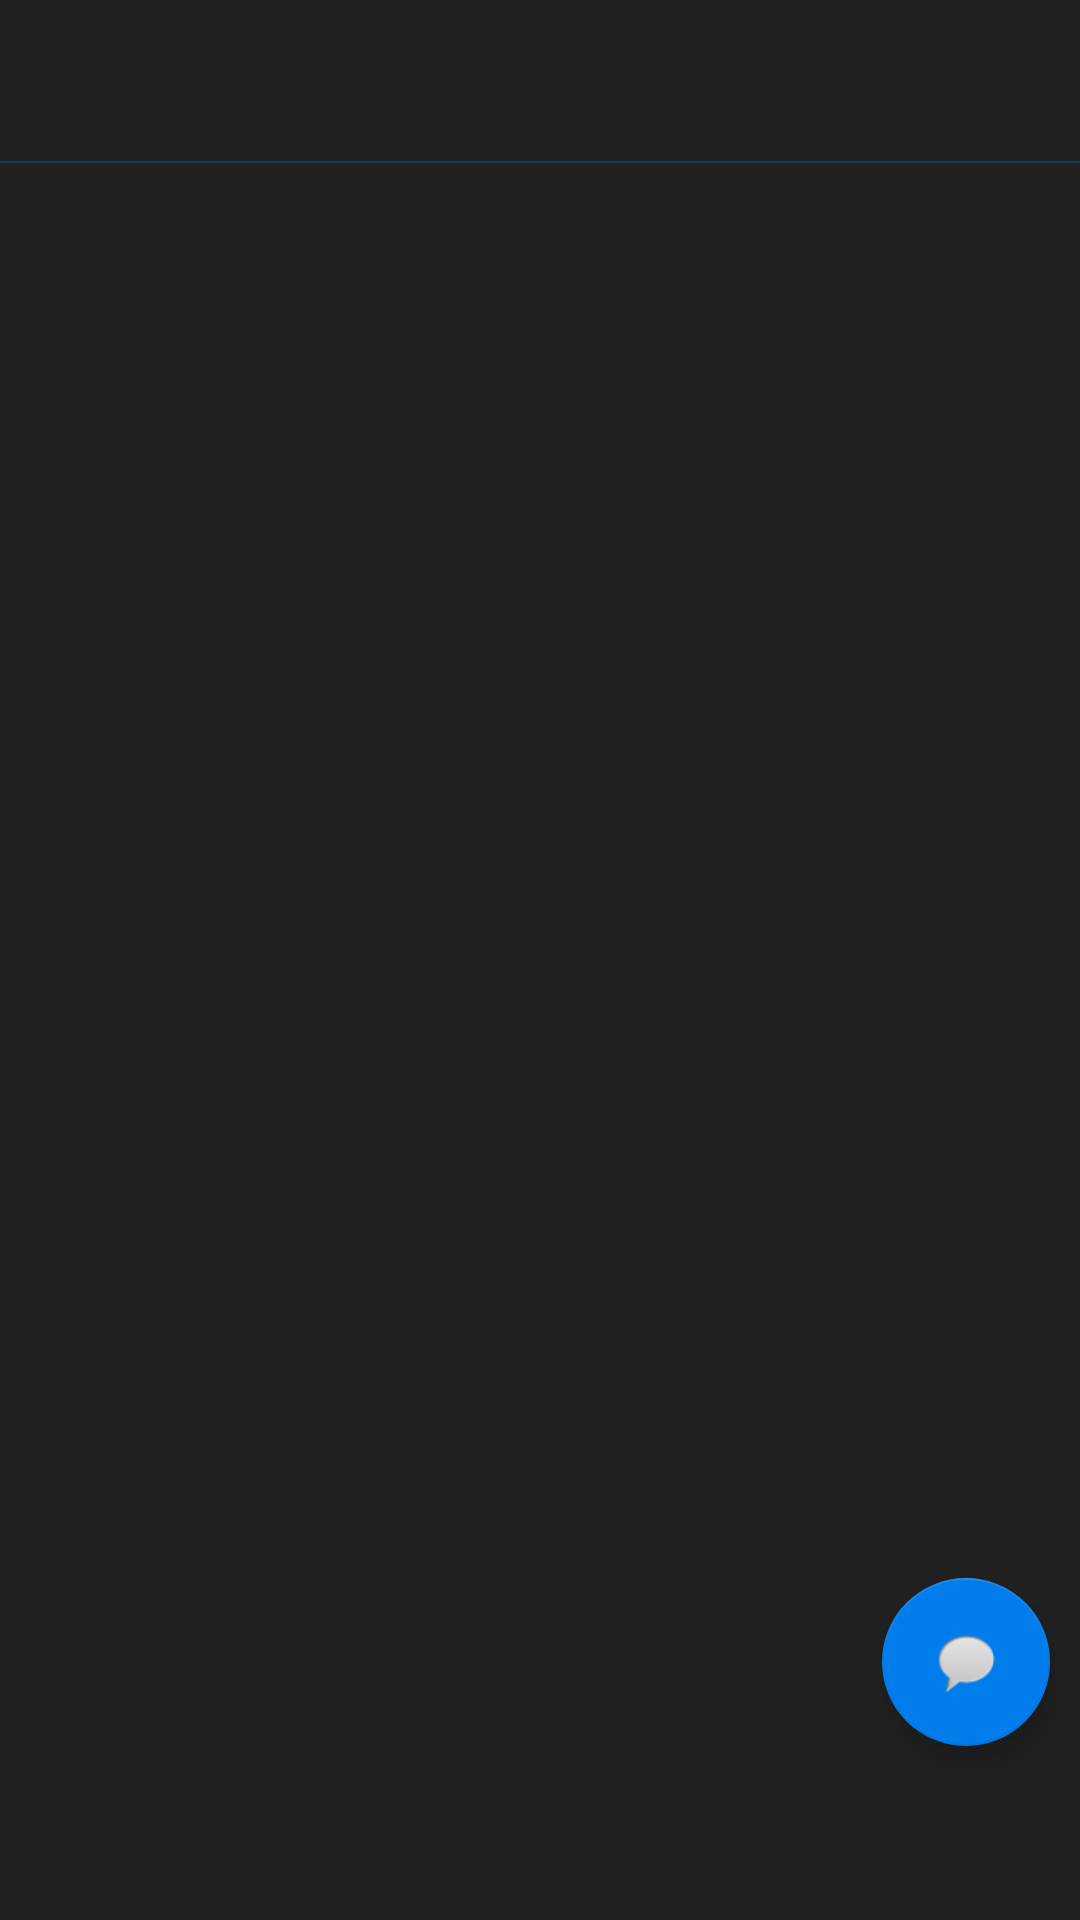

Icon bounding boxes for this 1080*1920 phone screenshot, format (x1, y1, x2, y2):
sym action chat: (882, 1578, 1050, 1746)
